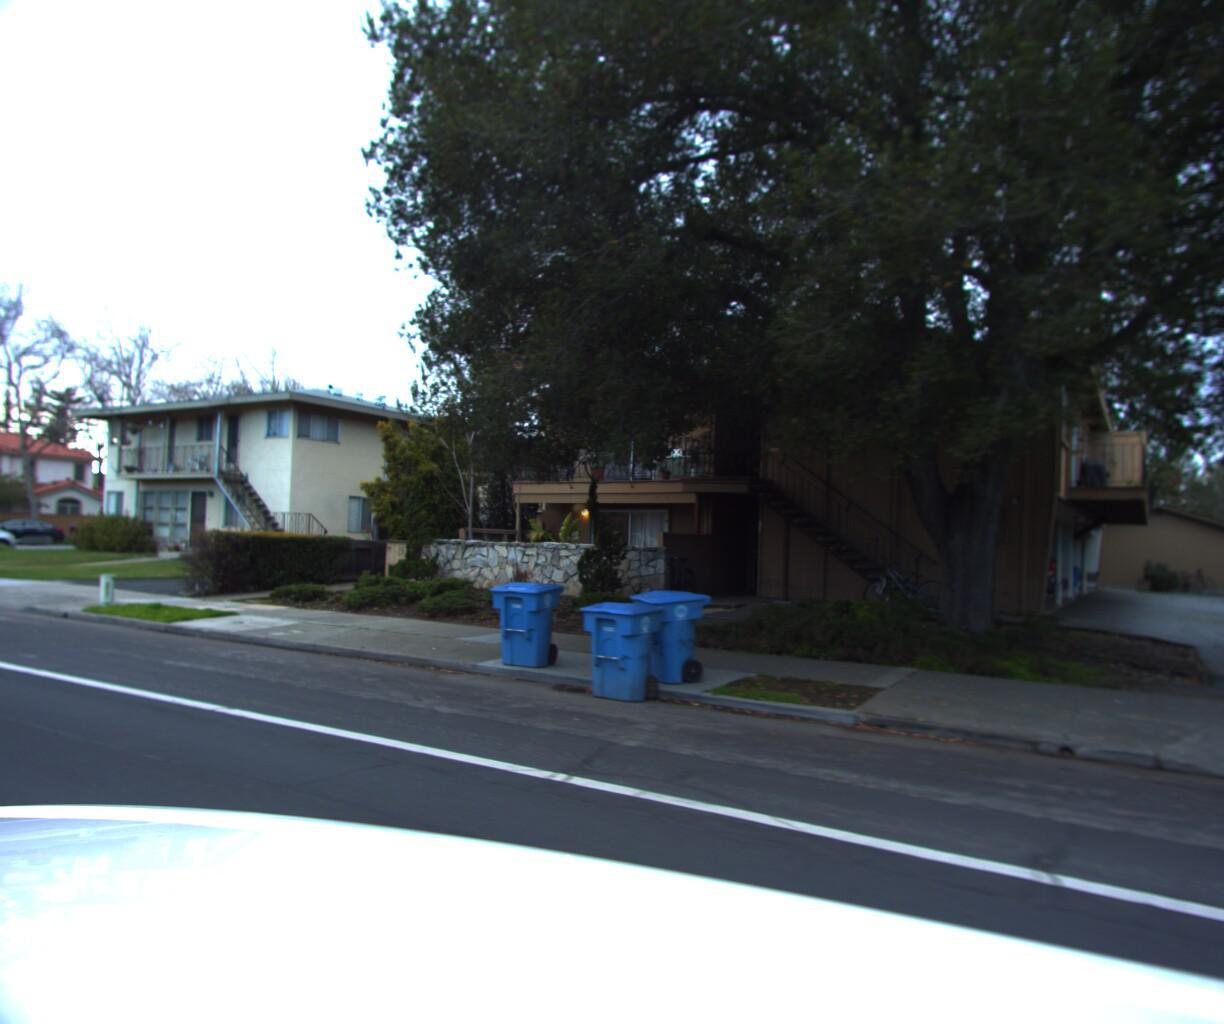car: (890, 543, 1067, 606), (0, 515, 71, 549), (0, 506, 23, 556)
